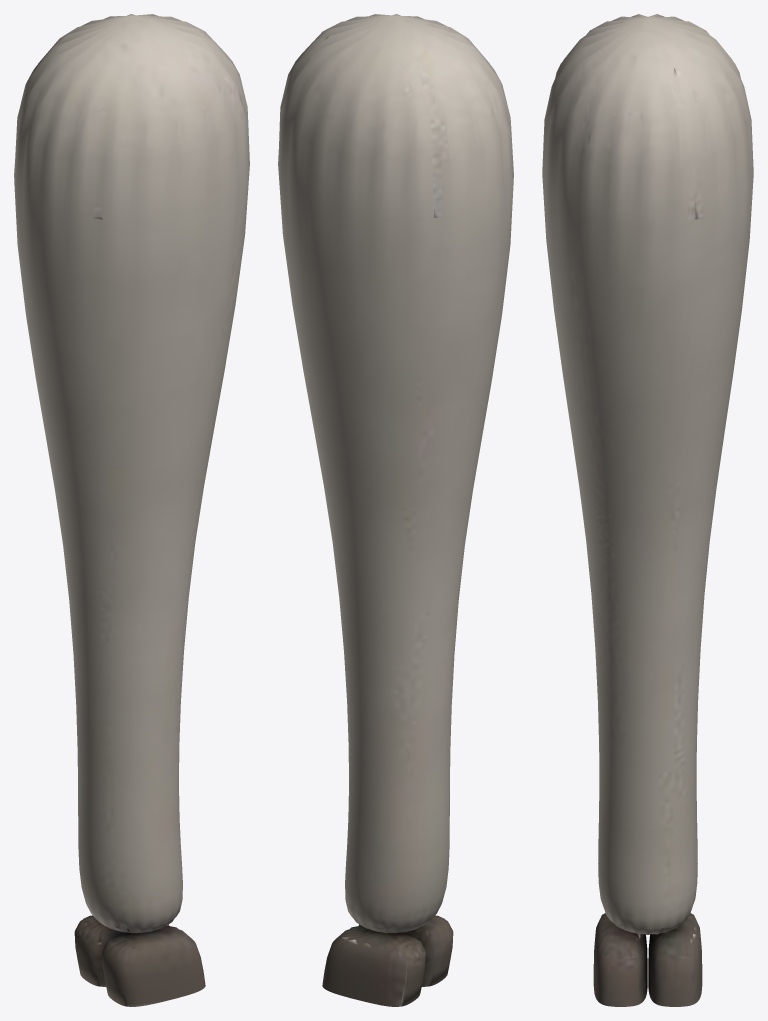
The model's file is sheep_leg.glb.
3 renders of one model, left to right at view 1: azimuth 30°, elevation 25°; view 2: azimuth 150°, elevation 25°; view 3: azimuth 270°, elevation 25°, orthographic.
Parts seen in each view (by area): view 1: sheep_leg; view 2: sheep_leg; view 3: sheep_leg.
Boxes of the visible parts, box(x1,y1,x2,y2) form: sheep_leg: box(14, 14, 249, 1006); sheep_leg: box(278, 14, 513, 1006); sheep_leg: box(542, 14, 753, 1006).
Bounding box in the file's own units: 0.125 × 0.5448 × 0.1086.
1 material, 1 textured.
